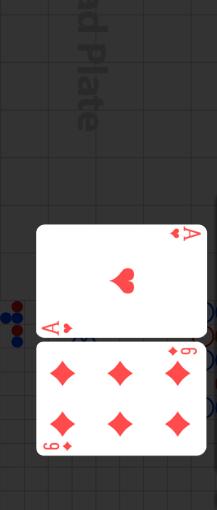6D: (42, 440, 74, 452)
AH: (167, 227, 201, 243)
